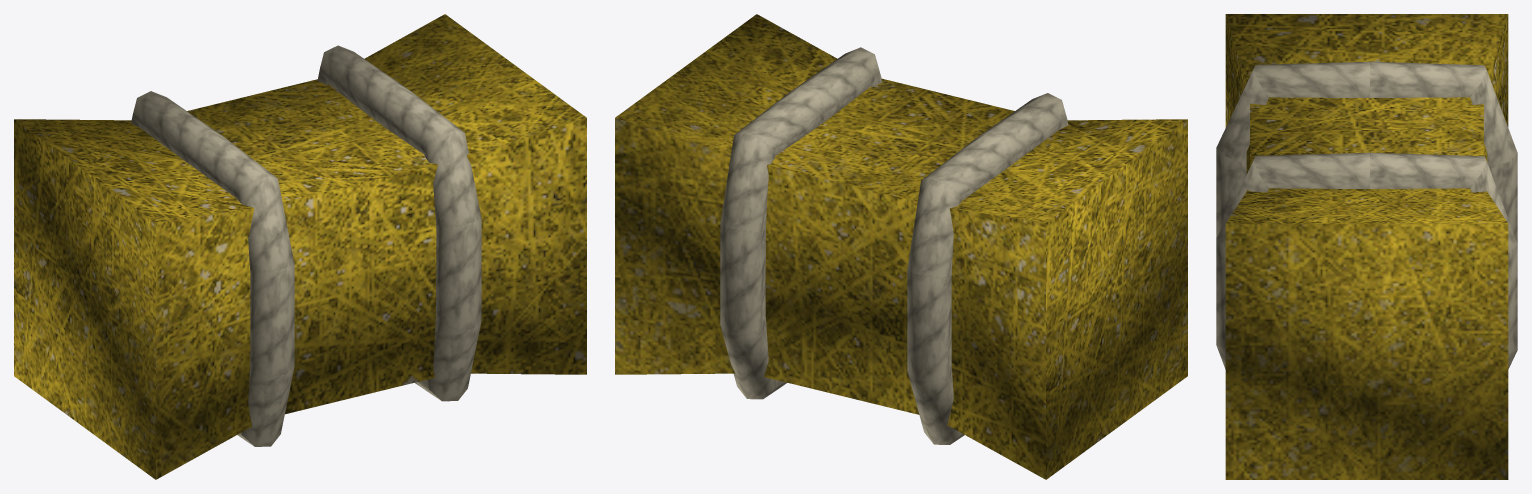
File: bottedefoinwrope.glb
The picture shows the model from 3 angles, left to right: view 1: azimuth 30°, elevation 25°; view 2: azimuth 150°, elevation 25°; view 3: azimuth 270°, elevation 25°; orthographic projection.
Visible parts, largest first — view 1: bottedefoinwrope; view 2: bottedefoinwrope; view 3: bottedefoinwrope.
Part boxes in pixels (x1,y1,x2,y2): bottedefoinwrope: (14,14,586,479); bottedefoinwrope: (615,14,1187,479); bottedefoinwrope: (1216,14,1517,479).
Size of the model in its own units: 1.35 by 0.8267 by 0.8213.
Materials: 2 (2 with a texture image).
